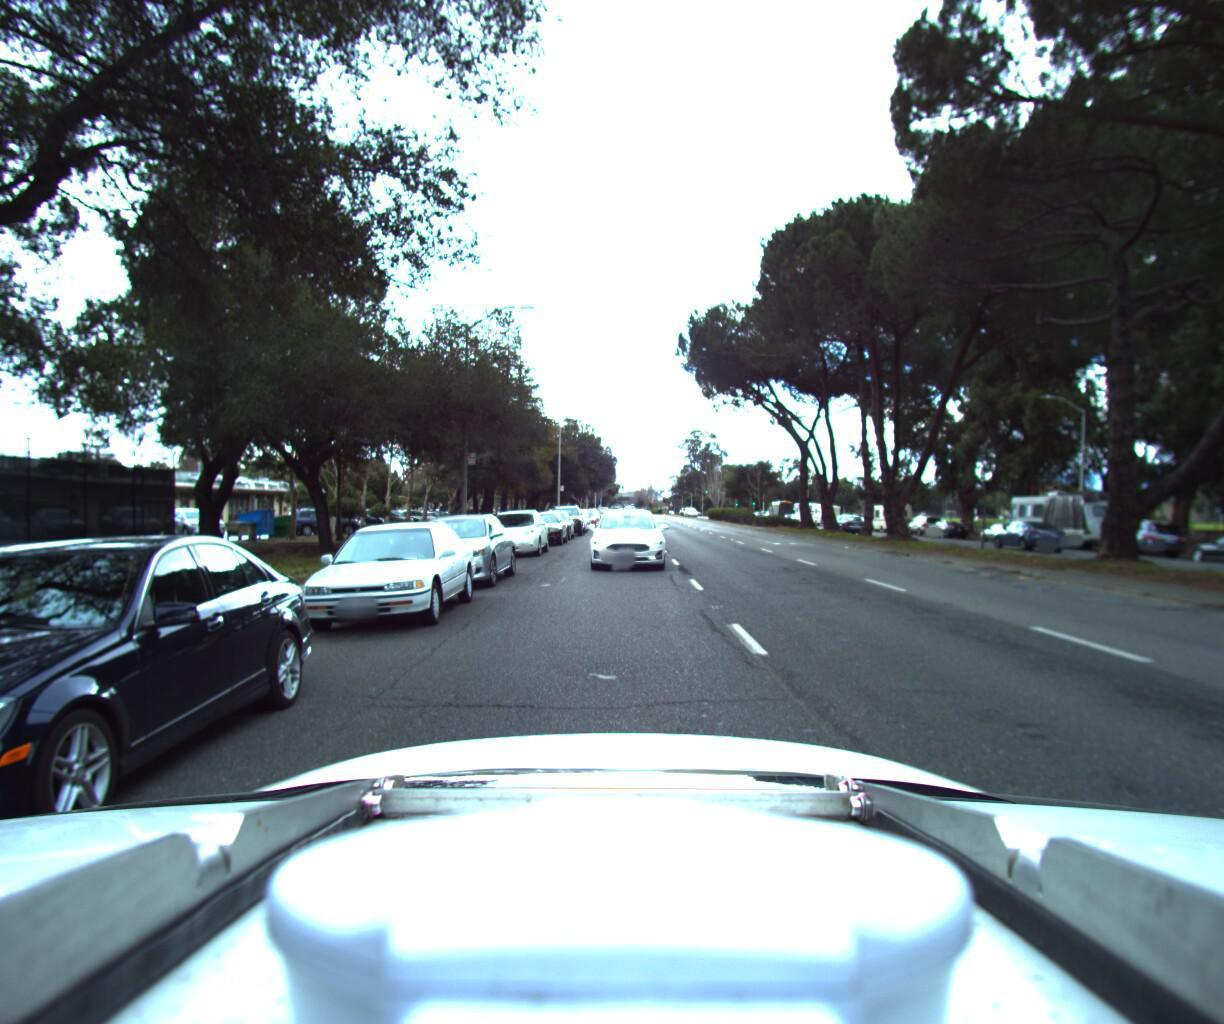car: (0, 521, 335, 939), (276, 513, 482, 641), (383, 503, 521, 589), (582, 501, 665, 568), (1088, 510, 1188, 552), (478, 501, 551, 553), (970, 511, 1048, 544), (515, 502, 569, 542), (1181, 523, 1224, 562), (531, 501, 577, 536), (546, 496, 585, 531), (902, 506, 947, 529), (817, 505, 861, 528), (924, 511, 971, 532)
other_vehicle: (998, 479, 1136, 549), (866, 492, 917, 527)
